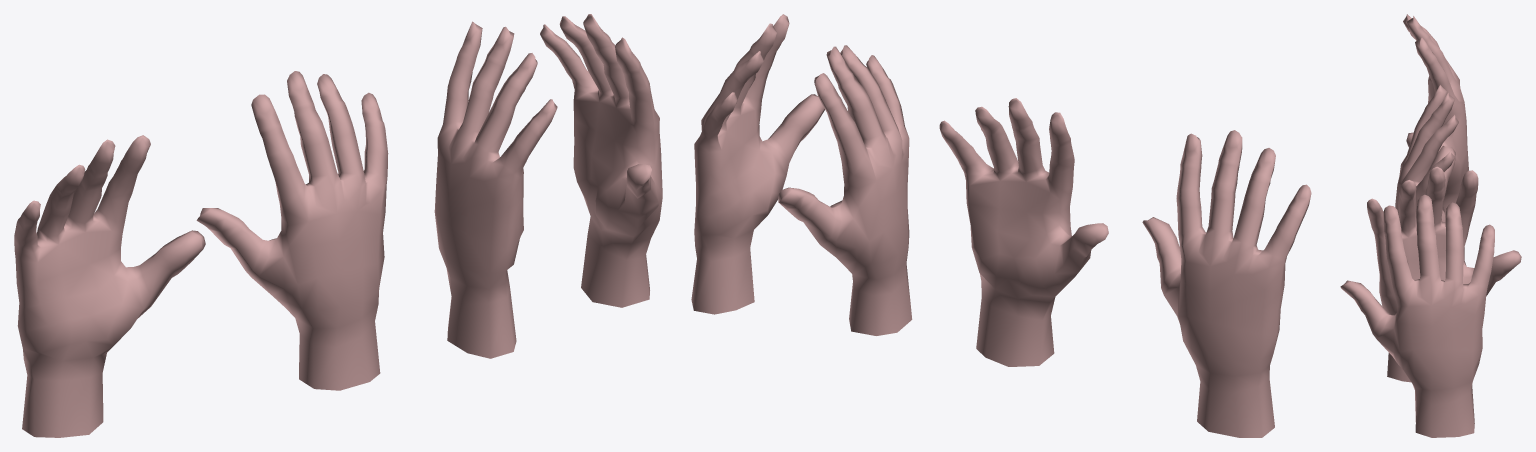
File: low_poly_hand_-_3d_model.glb
3 views of the same model, side by side, from view 1: azimuth 30°, elevation 25°; view 2: azimuth 150°, elevation 25°; view 3: azimuth 270°, elevation 25° (orthographic). The views are drawn at different scales.
Parts seen in each view (by area): view 1: Plane005_0, Plane005.001_3, Plane005.003_5, Plane005.002_4; view 2: Plane005.001_3, Plane005_0, Plane005.003_5, Plane005.002_4; view 3: Plane005.002_4, Plane005.003_5, Plane005_0, Plane005.001_3.
Part boxes in pixels (x1,y1,x2,y2): Plane005_0: [196, 71, 388, 390]; Plane005.001_3: [14, 135, 205, 437]; Plane005.003_5: [434, 21, 557, 358]; Plane005.002_4: [540, 14, 662, 307]; Plane005.001_3: [1142, 130, 1311, 437]; Plane005_0: [939, 98, 1108, 366]; Plane005.003_5: [778, 45, 912, 335]; Plane005.002_4: [691, 14, 824, 314]; Plane005.002_4: [1340, 194, 1494, 437]; Plane005.003_5: [1367, 166, 1521, 382]; Plane005_0: [1395, 85, 1458, 222]; Plane005.001_3: [1403, 14, 1468, 216].
Bounding box in the file's own units: 2.34 × 1.04 × 0.7705.
